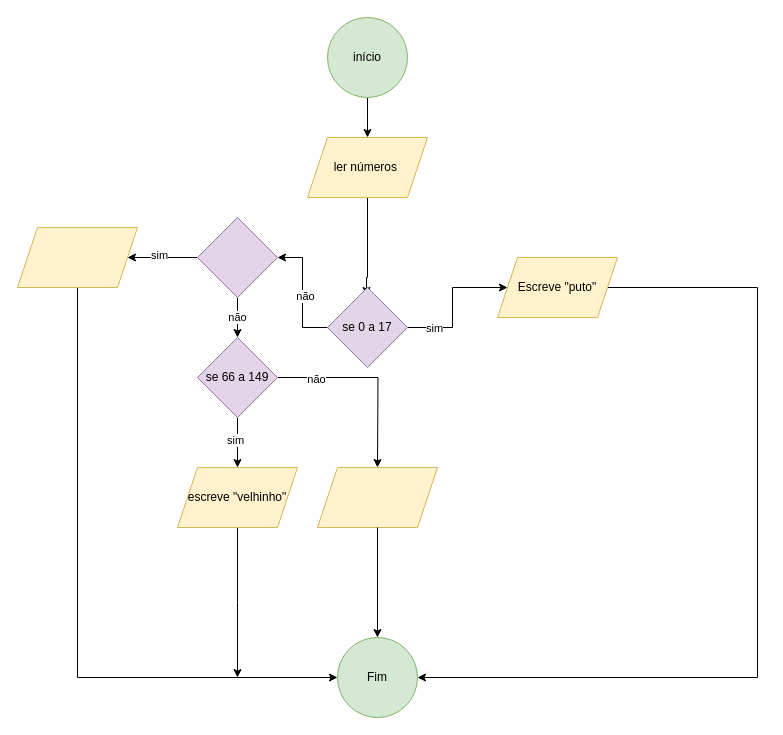
Image size: 783x735. Some labels were removed from this diagram. The shapes that lost their labels are listed below. From the top down, each one's centre as x and y in pixels, then its label:
(x=77, y=257): escreve "adulto"
(x=237, y=257): se 18 a 65
(x=377, y=497): escreve "dinossauro"
